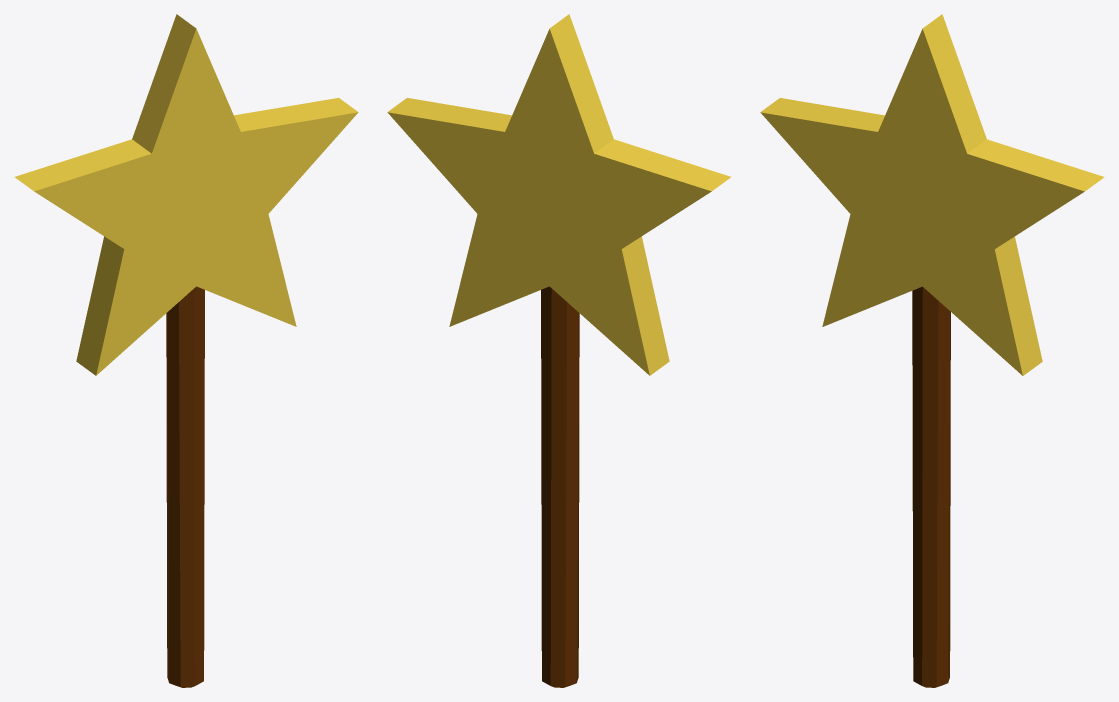
File: Varinha.Estrela.fbx
3 views of the same model, side by side, from view 1: azimuth 30°, elevation 25°; view 2: azimuth 150°, elevation 25°; view 3: azimuth 330°, elevation 25° (orthographic).
Visible parts, largest first — view 1: Varinha.Estrela; view 2: Varinha.Estrela; view 3: Varinha.Estrela.
Boxes of the visible parts, x1,y1,x2,y2 form: Varinha.Estrela: (15, 14, 358, 687); Varinha.Estrela: (387, 14, 730, 687); Varinha.Estrela: (760, 14, 1104, 687).
Size of the model in its own units: 25.69 by 50.21 by 2.71.
